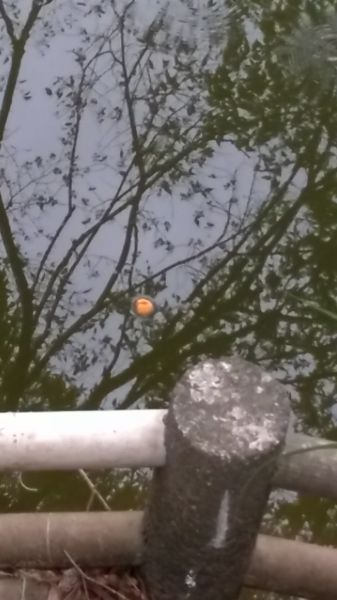eggs: (130, 289, 159, 322)
